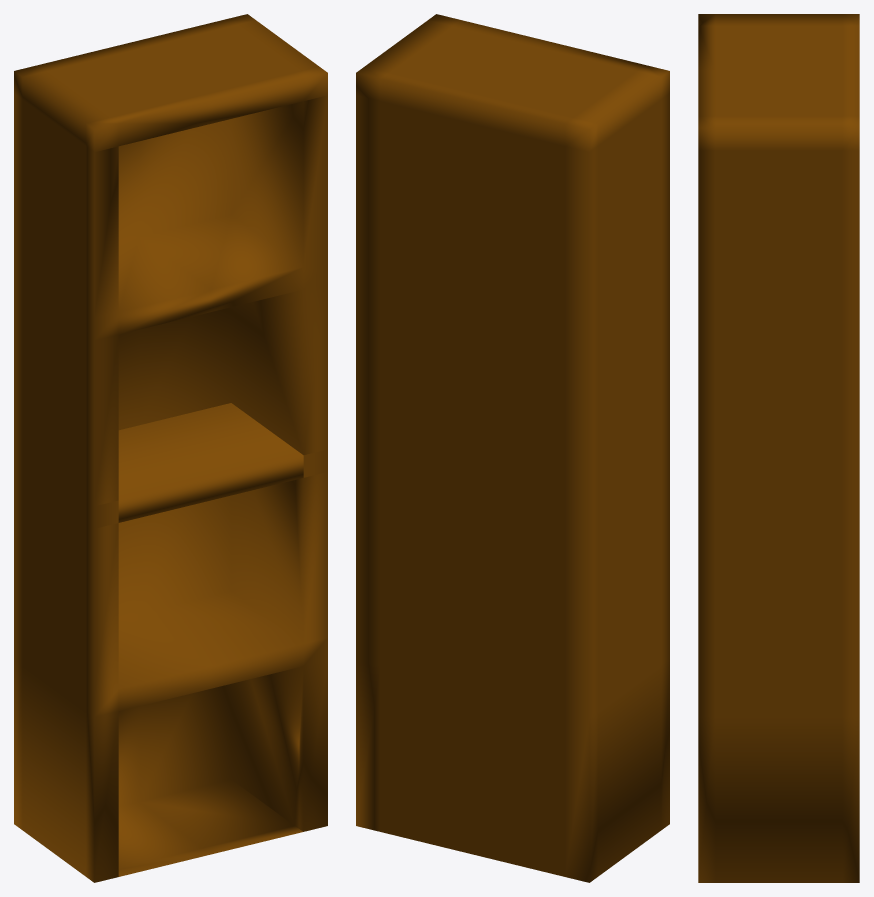
The model's file is Cage.fbx.
The picture shows the model from 3 angles, left to right: view 1: azimuth 30°, elevation 25°; view 2: azimuth 150°, elevation 25°; view 3: azimuth 270°, elevation 25°; orthographic projection.
Visible parts, largest first — view 1: shelf.001; view 2: shelf.001; view 3: shelf.001.
Boxes of the visible parts, x1,y1,x2,y2 form: shelf.001: [14, 14, 327, 882]; shelf.001: [356, 14, 669, 882]; shelf.001: [698, 14, 859, 882].
Bounding box in the file's own units: 1259 × 3881 × 750.
